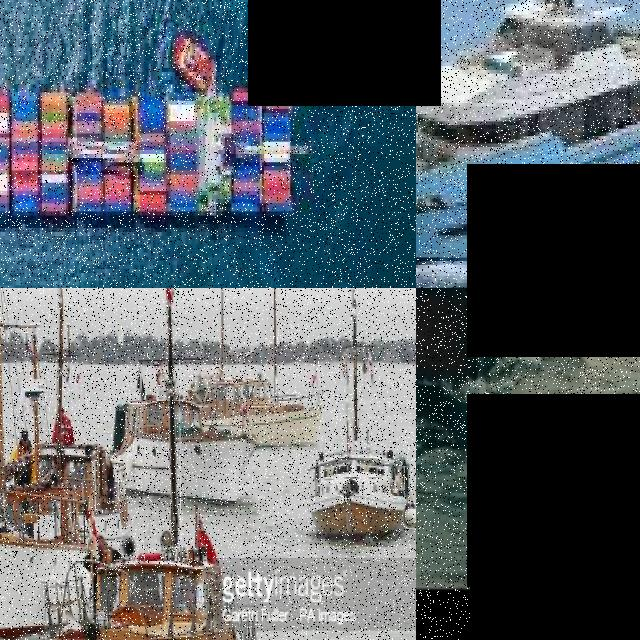boat: (31, 289, 275, 640), (1, 289, 122, 640), (91, 289, 257, 507), (304, 289, 417, 551), (202, 289, 334, 452), (417, 289, 530, 409), (417, 289, 445, 344), (505, 289, 541, 320), (417, 289, 435, 335), (417, 289, 441, 322)
cargo ship: (1, 72, 321, 260)
cruise ship: (417, 1, 640, 289)
